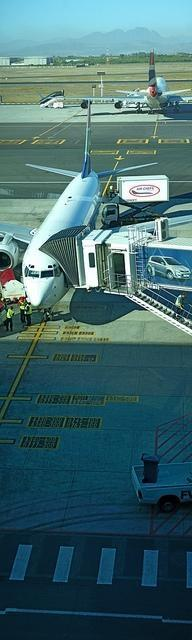car: (146, 254, 190, 280), (0, 300, 7, 328)
truck: (129, 455, 192, 517), (101, 204, 167, 228)
